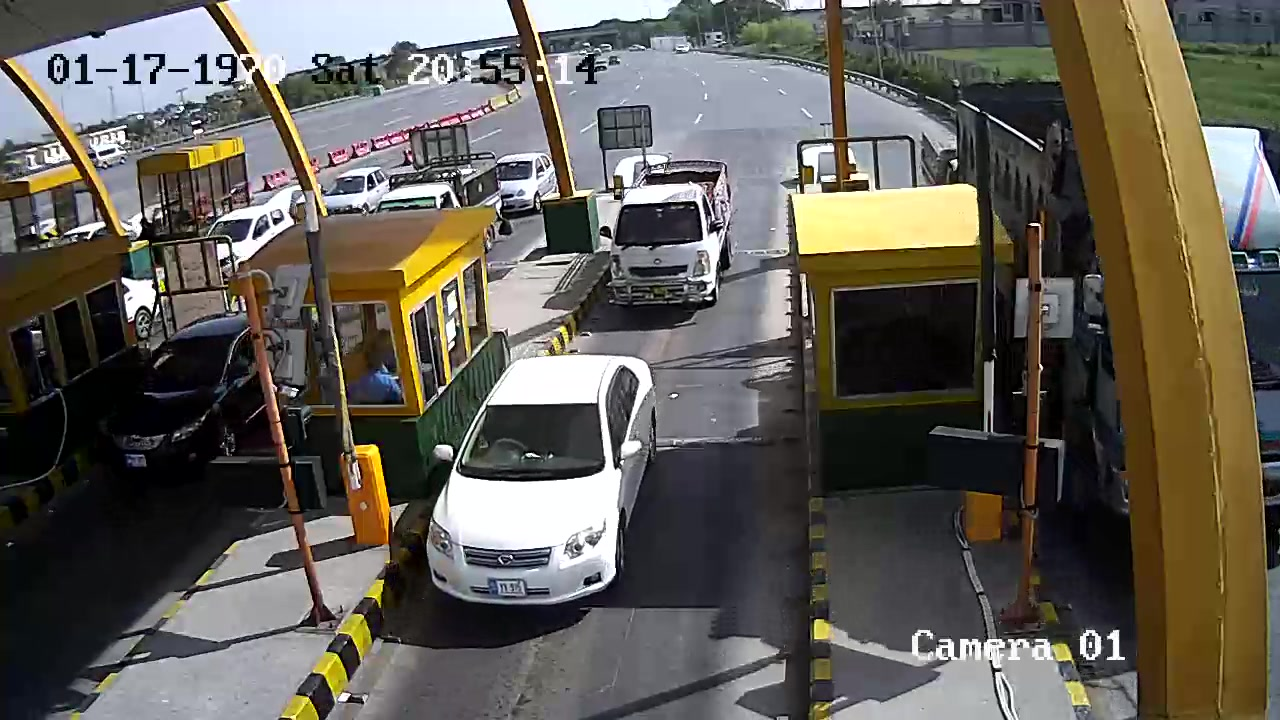F1: (424, 349, 671, 612)
